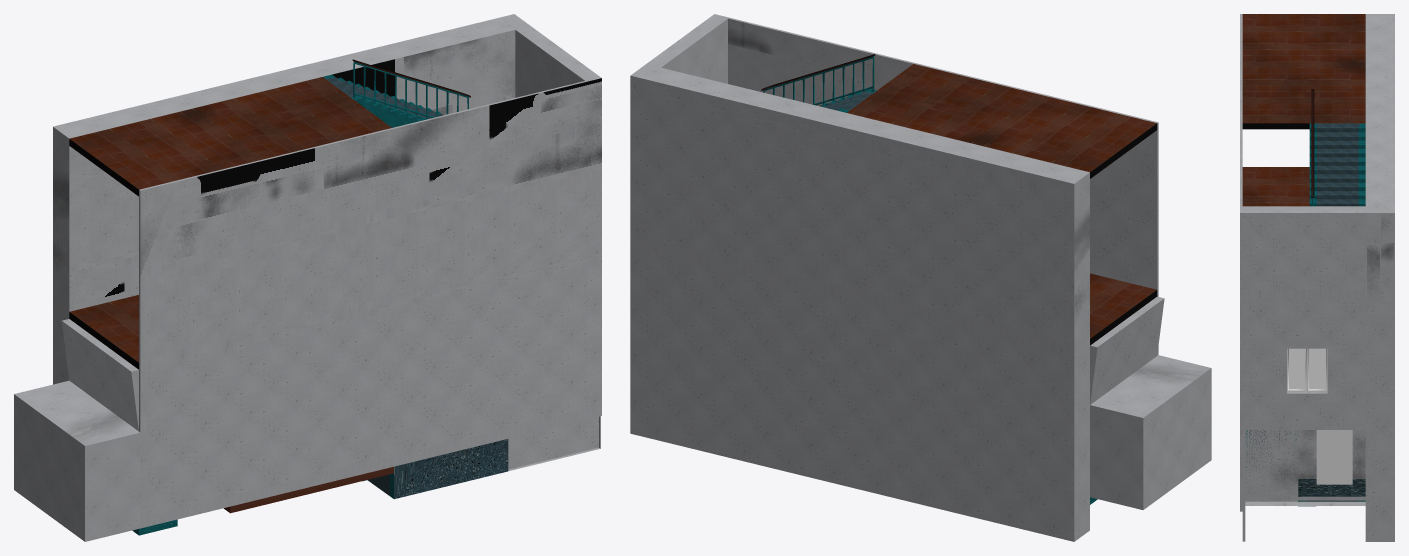
Rendered from enterance.glb.
3 renders of one model, left to right at view 1: azimuth 30°, elevation 25°; view 2: azimuth 150°, elevation 25°; view 3: azimuth 270°, elevation 25°, orthographic. The views are drawn at different scales.
Parts seen in each view (by area): view 1: Wall.001, Wall.003, Cube.018, Cube.004, Cube.005, Cube, Cube.008, Cube.013, Cube.006, Cube.016, handstair.019, Cube.002; view 2: Wall.003, Wall.001, Cube.018, Cube.004, Cube.005, Cube.008, Cube.006, handstair.019; view 3: Cube.008, Wall.003, Cube.018, Cube.013, Cube.016, Cube.006, Cube.012, Window.001, Wall.001, Cube.019, Cube.010, handstair.018.
Part boxes in pixels (x1,y1,x2,y2): Wall.001: [139, 77, 601, 528]; Wall.003: [53, 14, 530, 384]; Cube.018: [69, 77, 391, 196]; Cube.004: [14, 380, 140, 541]; Cube.005: [61, 319, 138, 431]; Cube: [367, 439, 508, 499]; Cube.008: [515, 26, 599, 97]; Cube.013: [508, 416, 600, 471]; Cube.006: [69, 295, 138, 369]; Cube.016: [323, 74, 443, 127]; handstair.019: [353, 62, 468, 119]; Cube.002: [224, 466, 393, 513]; Wall.003: [630, 64, 1089, 541]; Wall.001: [713, 14, 1158, 355]; Cube.018: [847, 64, 1157, 178]; Cube.004: [1090, 355, 1211, 509]; Cube.005: [1090, 296, 1164, 404]; Cube.008: [646, 15, 727, 83]; Cube.006: [1090, 273, 1157, 345]; handstair.019: [763, 56, 874, 106]; Cube.008: [1242, 206, 1365, 426]; Wall.003: [1365, 14, 1394, 541]; Cube.018: [1242, 14, 1365, 129]; Cube.013: [1242, 426, 1365, 541]; Cube.016: [1309, 123, 1365, 206]; Cube.006: [1242, 167, 1309, 206]; Cube.012: [1316, 430, 1352, 484]; Window.001: [1287, 348, 1327, 391]; Wall.001: [1240, 14, 1242, 511]; Cube.019: [1242, 289, 1365, 298]; Cube.010: [1298, 479, 1365, 496]; handstair.018: [1311, 89, 1314, 197].
Size of the model in its own units: 16.11 by 12.37 by 4.73.
Materials: 16 (12 with a texture image).
